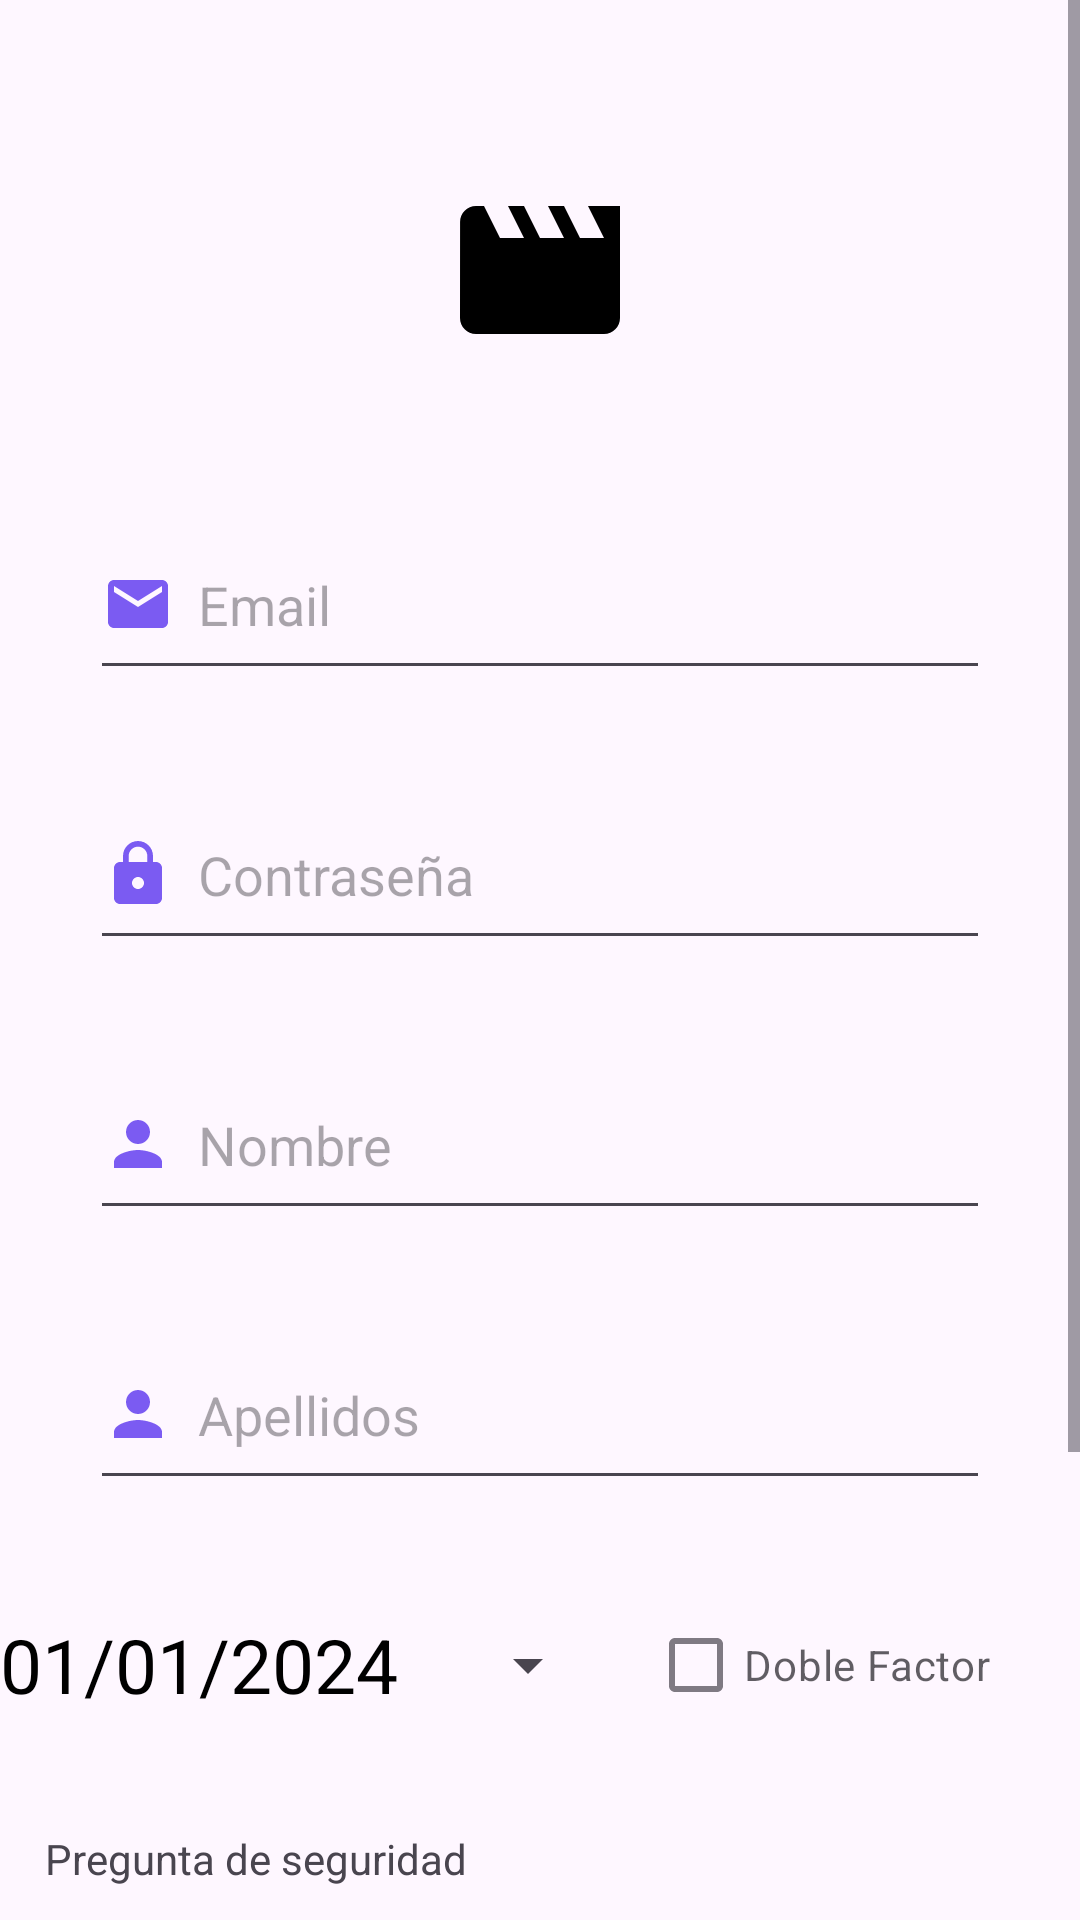

Named icons in this screenshot (1080px×1920px) and their bounding boxes, (x1, y1, x2, y2):
movie: (460, 206, 620, 334)
